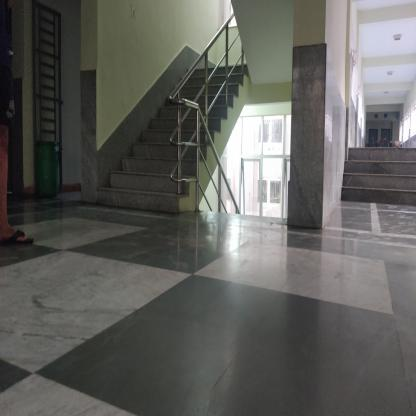stairs: (143, 130, 170, 217)
